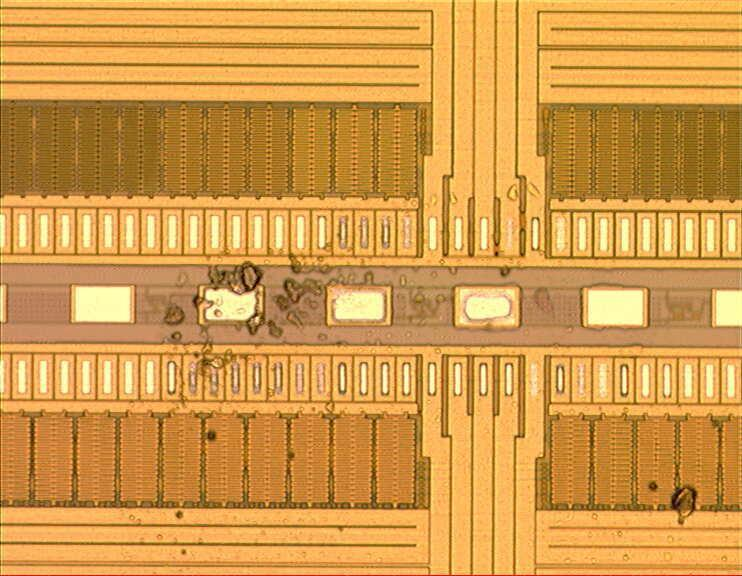PO CONTAMINATION: (117, 176, 736, 576)
